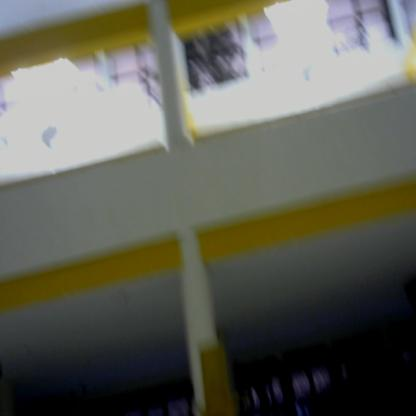pole: (184, 329, 244, 416)
